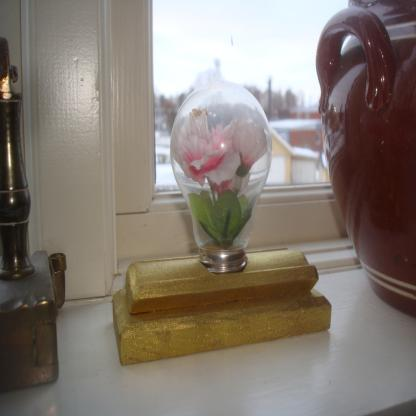vase: (168, 78, 274, 274)
